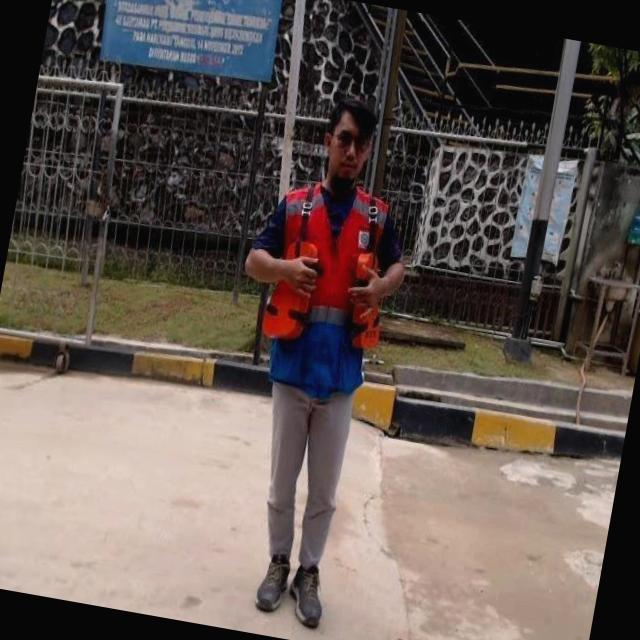vest: (252, 174, 403, 400)
